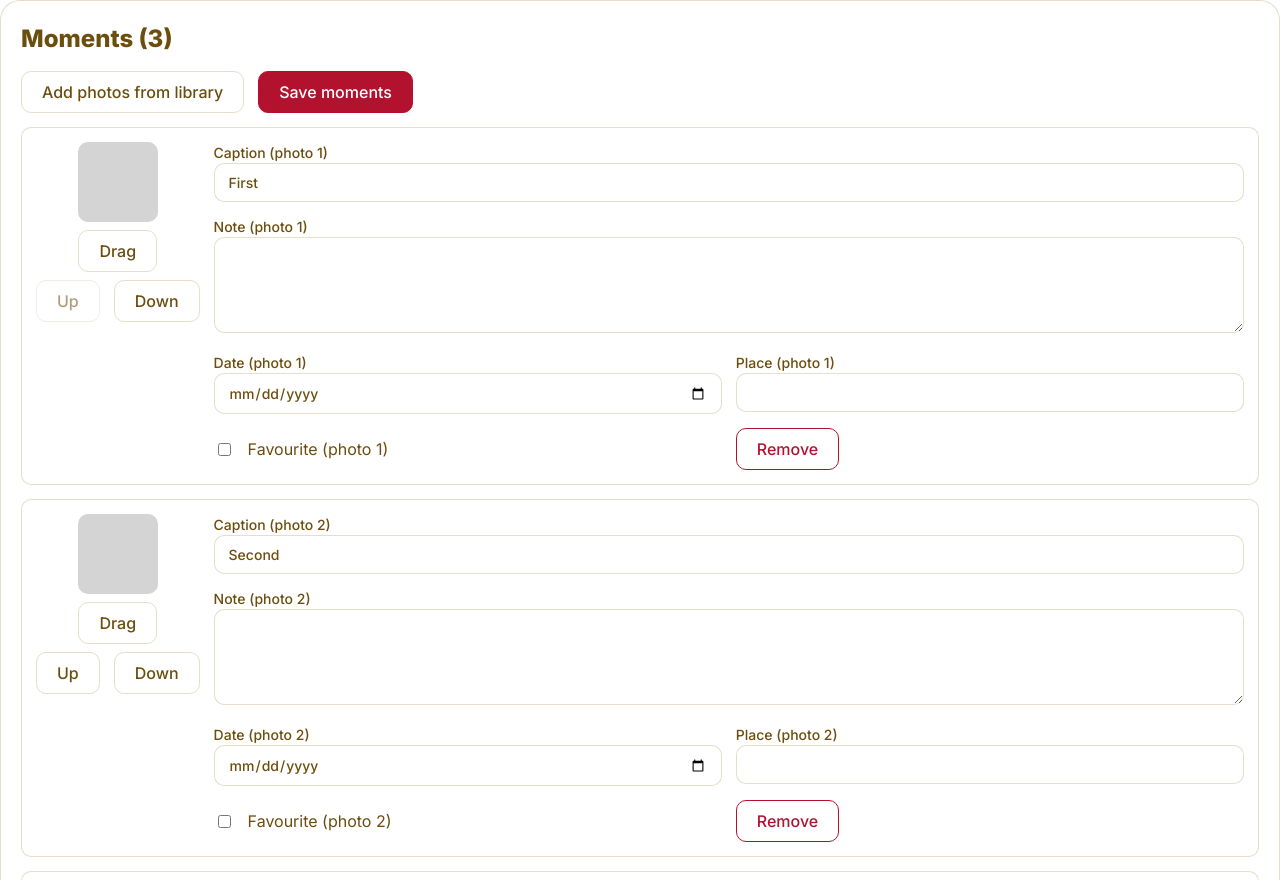
Test: MomentsEditor › shows a field error next to the moment it belongs to
Expected: the field labelled "Caption (photo 2)" is shown, [214, 535, 1244, 574]
Click the button "Save moments" at (336, 92), box [258, 71, 413, 113]
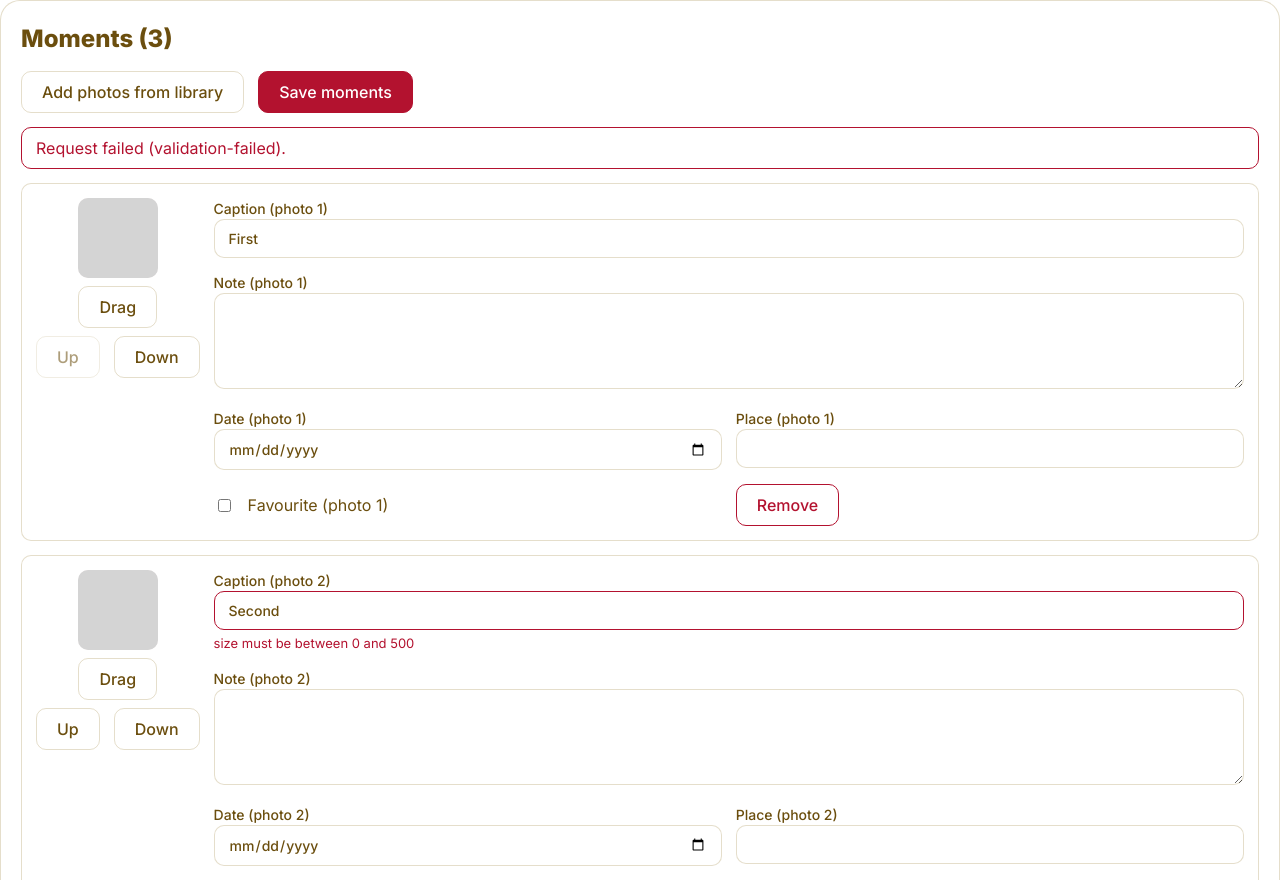
Expected: the text "size must be between 0 and 500" is shown, [214, 635, 414, 651]
